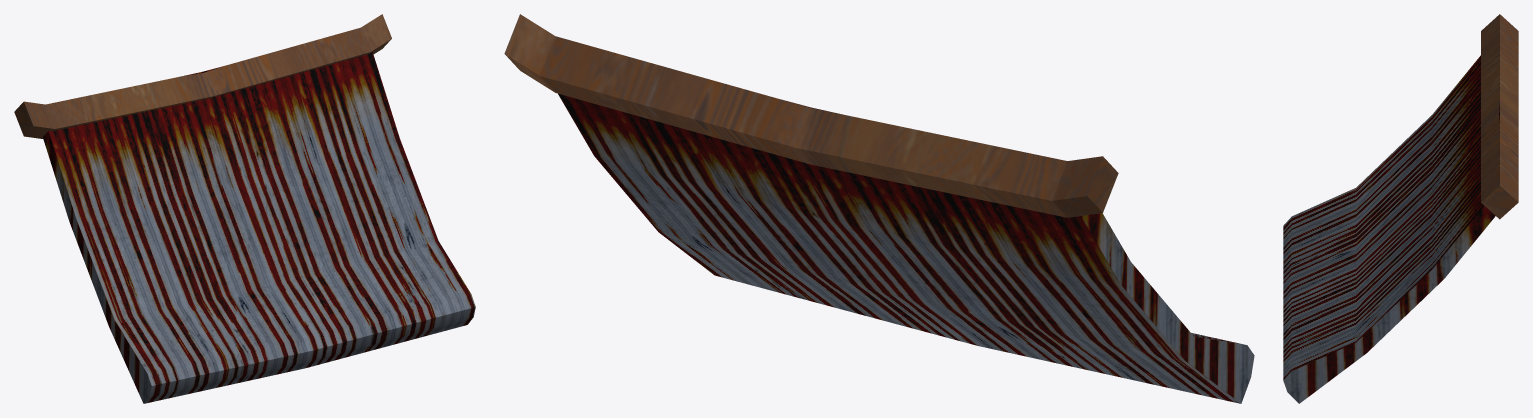
File: Metal Ramp.fbx
3 views of the same model, side by side, from view 1: azimuth 30°, elevation 25°; view 2: azimuth 150°, elevation 25°; view 3: azimuth 270°, elevation 25° (orthographic). The views are drawn at different scales.
Parts seen in each view (by area): view 1: Cube.085, Cube.086; view 2: Cube.085, Cube.086; view 3: Cube.085, Cube.086.
Part boxes in pixels (bbox=[...]): Cube.085: bbox=[43, 52, 475, 403]; Cube.086: bbox=[14, 14, 391, 138]; Cube.085: bbox=[558, 93, 1254, 403]; Cube.086: bbox=[504, 14, 1118, 217]; Cube.085: bbox=[1283, 55, 1499, 403]; Cube.086: bbox=[1481, 14, 1518, 219].
Bounding box in the file's own units: 516 × 324 × 300.
